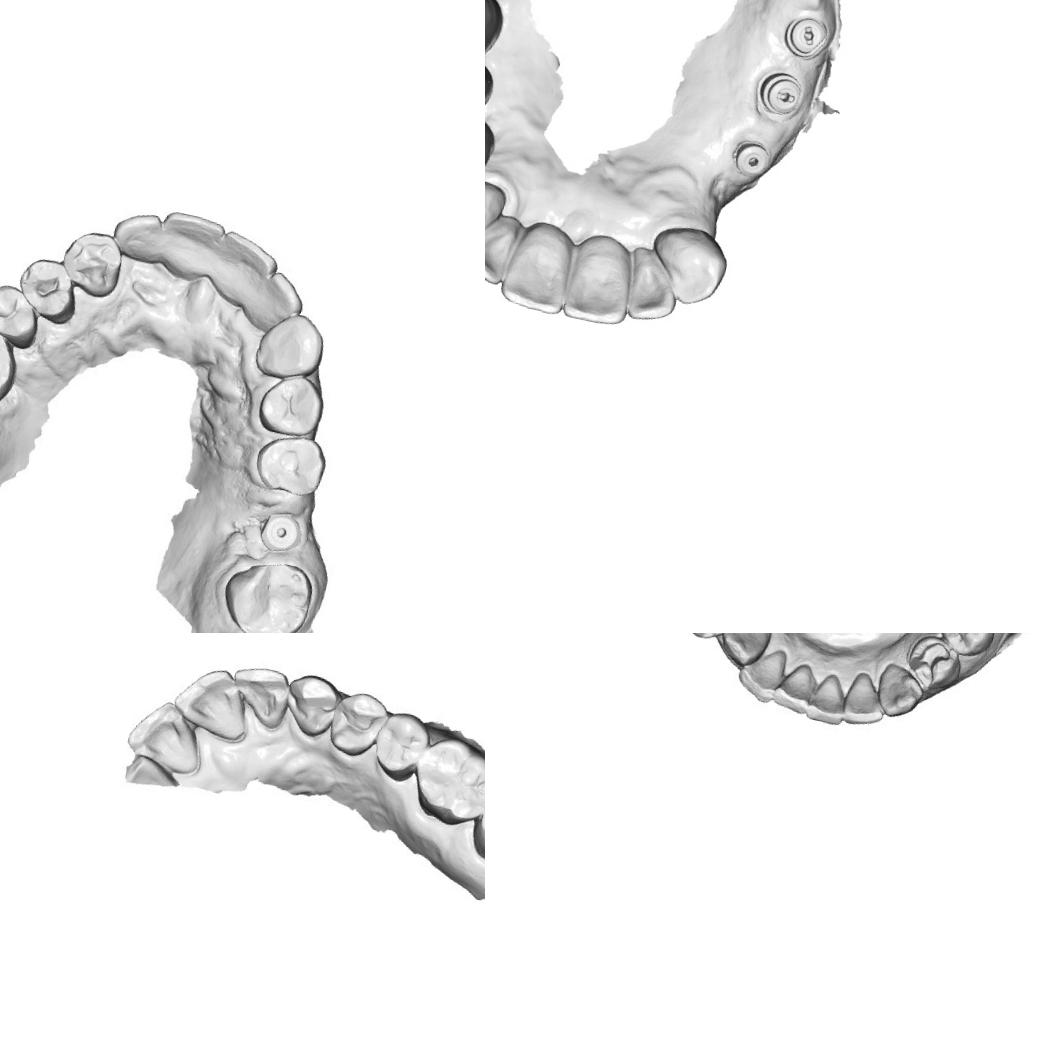canine: (643, 217, 732, 312), (254, 303, 337, 386), (59, 228, 126, 303), (279, 669, 347, 741), (874, 665, 922, 716), (485, 171, 510, 259), (715, 633, 773, 669)
implant: (252, 506, 306, 558), (728, 137, 777, 184)
implant_minus: (754, 67, 810, 122), (780, 9, 834, 65)
incisor: (496, 215, 584, 318), (164, 657, 257, 752), (557, 230, 643, 330), (122, 693, 212, 778), (219, 659, 294, 737), (619, 246, 689, 328), (154, 209, 228, 286), (208, 230, 282, 306), (485, 206, 526, 293), (838, 666, 890, 728), (736, 648, 788, 706), (804, 666, 852, 726), (250, 272, 303, 326), (112, 210, 160, 256), (778, 660, 818, 710)
molar: (405, 730, 485, 832), (219, 554, 314, 633), (0, 312, 24, 409), (466, 766, 485, 872)
premolar: (324, 686, 393, 762), (366, 706, 430, 785), (256, 430, 330, 495), (16, 258, 78, 322), (256, 373, 319, 434), (908, 633, 963, 689), (0, 279, 47, 344), (938, 633, 995, 661)
